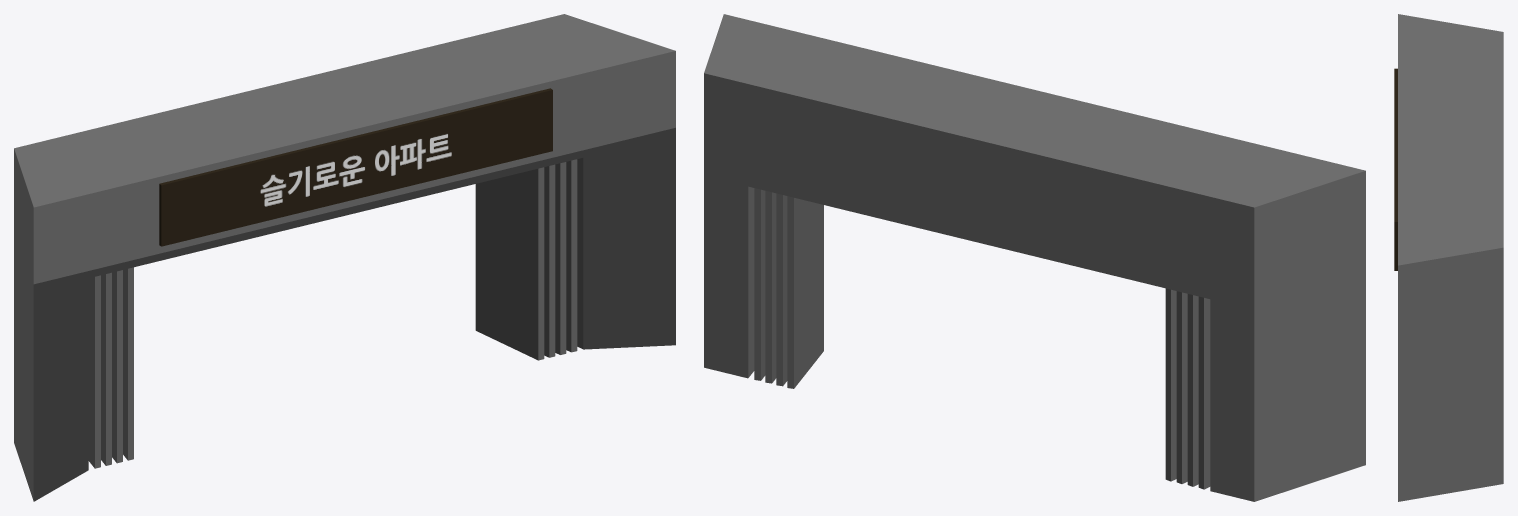
The model's file is entrance.fbx.
The picture shows the model from 3 angles, left to right: view 1: azimuth 30°, elevation 25°; view 2: azimuth 150°, elevation 25°; view 3: azimuth 270°, elevation 25°; orthographic projection. The views are drawn at different scales.
Visible parts, largest first — view 1: entrance.deco, entransce.sign; view 2: entrance.deco; view 3: entrance.deco, entransce.sign.
Part boxes in pixels (x1,y1,x2,y2): entrance.deco: (14,14,675,501); entransce.sign: (159,88,552,246); entrance.deco: (704,14,1365,501); entrance.deco: (1398,14,1503,501); entransce.sign: (1394,68,1397,270).
Size of the model in its own units: 10.5 by 4.6 by 1.92.
Materials: 3 (1 with a texture image).
